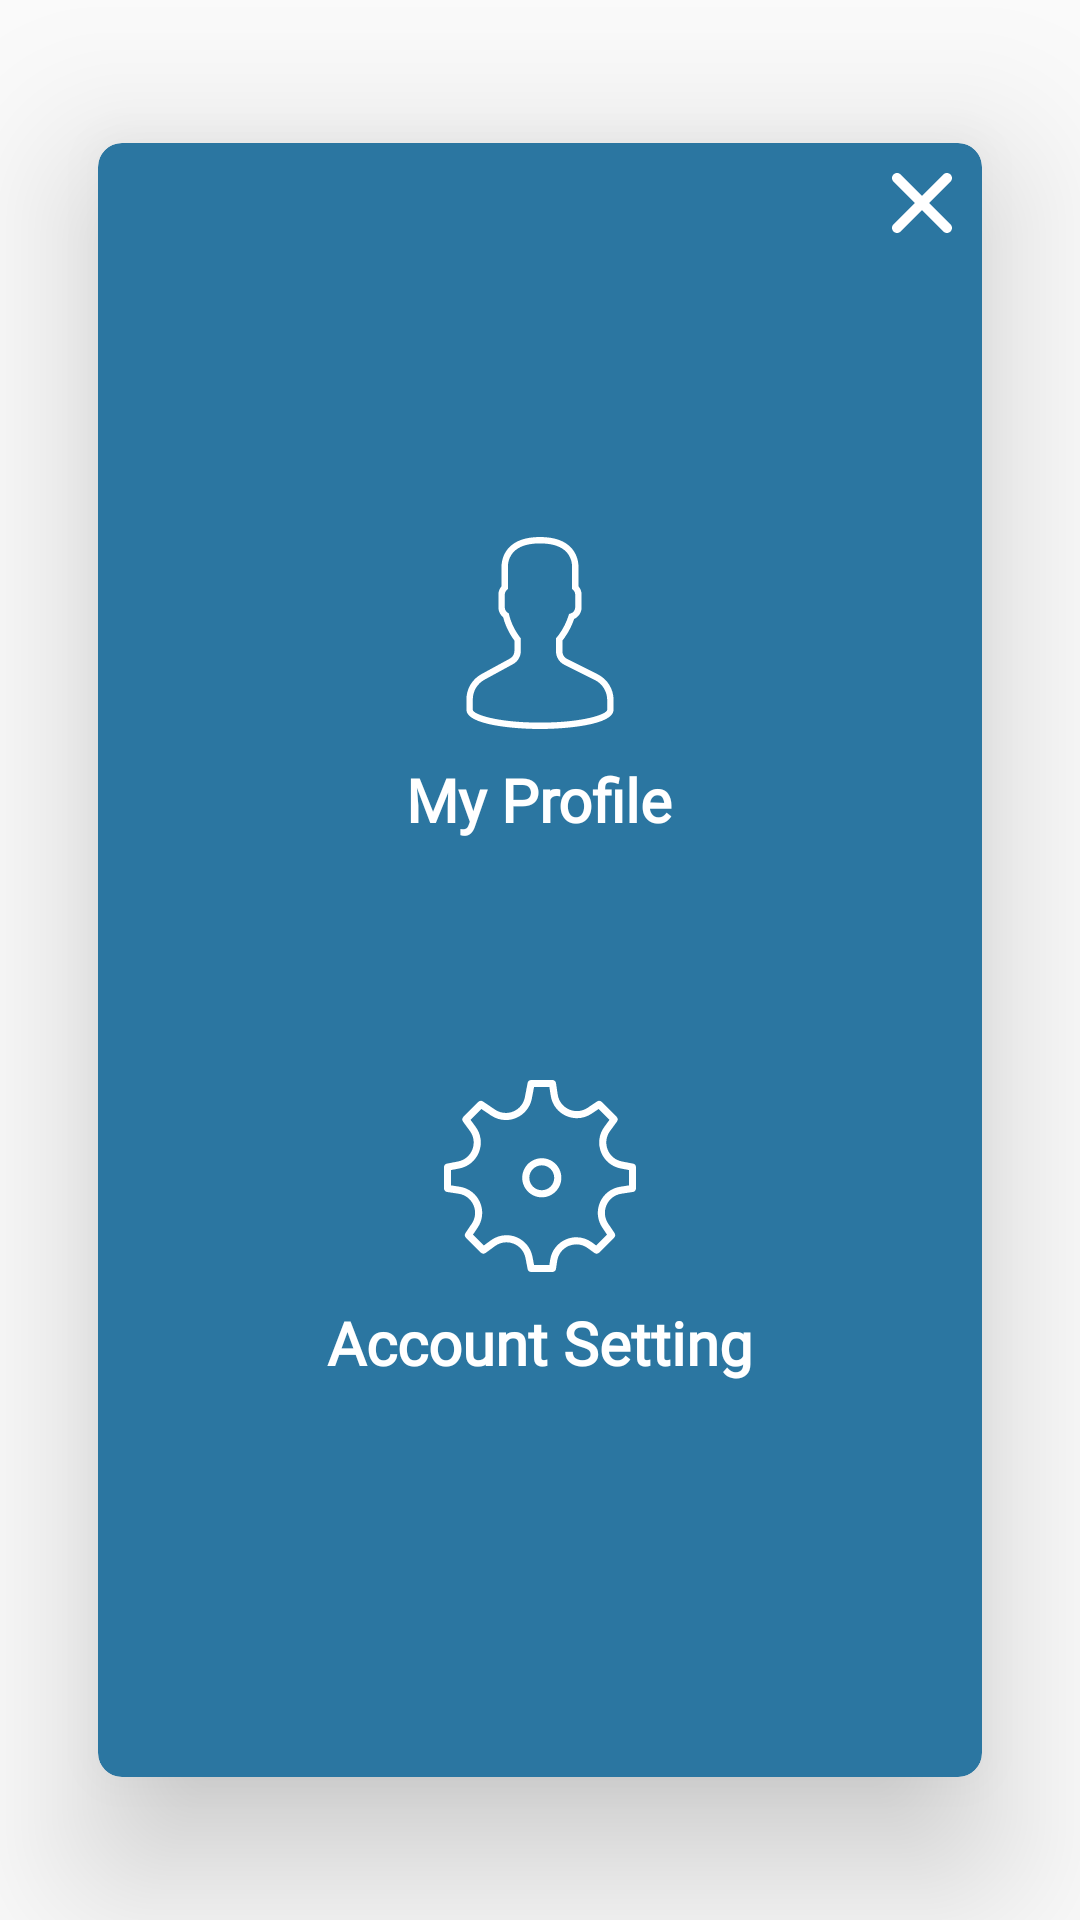

Where icons sit on this 1080w x 1920h app screen, as (x1=x1, y1=y1, x2=x2, y2=y2):
cancel: (x1=892, y1=173, x2=952, y2=233)
